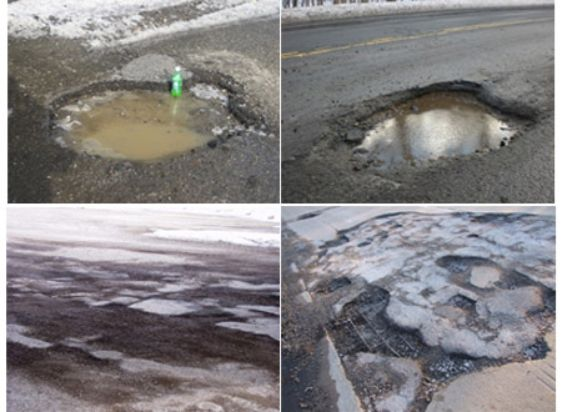pothole: (323, 75, 543, 177), (42, 65, 261, 165)
